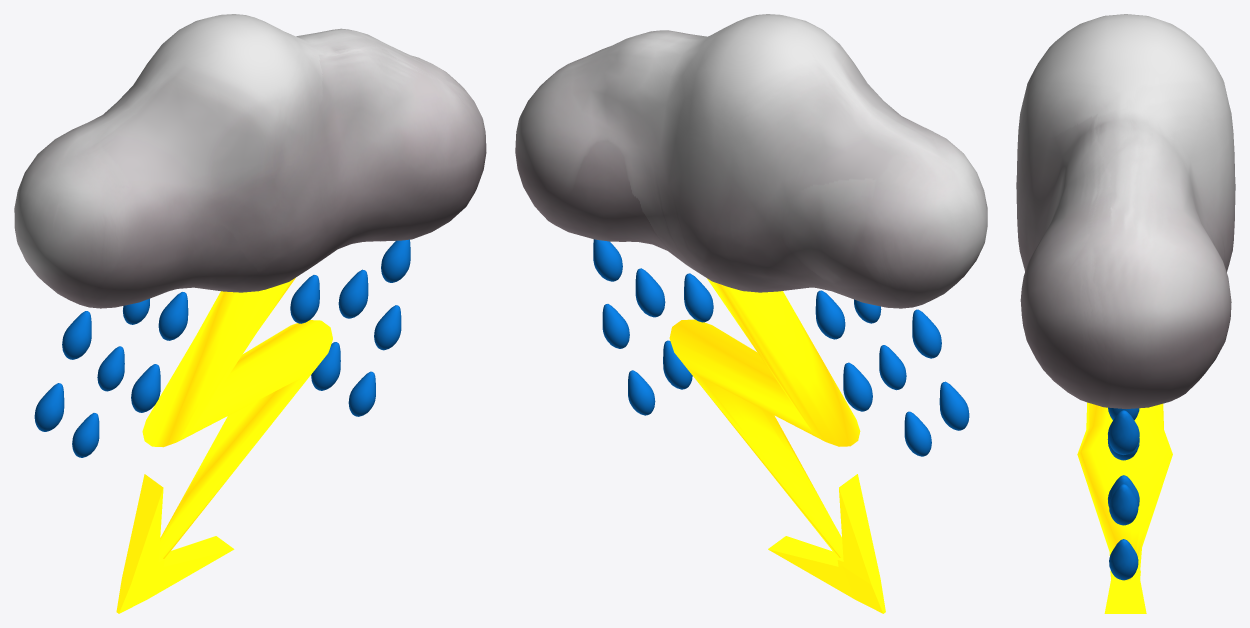
The model's file is hujan.glb.
3 renders of one model, left to right at view 1: azimuth 30°, elevation 25°; view 2: azimuth 150°, elevation 25°; view 3: azimuth 270°, elevation 25°, orthographic. The views are drawn at different scales.
Parts seen in each view (by area): view 1: Wolke 01, NurbsPath, Regen, Plane, Regen.001, Regen.003, Regen.002; view 2: Wolke 01, NurbsPath, Regen, Plane, Regen.001, Regen.003, Regen.002; view 3: Wolke 01, NurbsPath, Regen.001, Plane, Regen.002.
Part boxes in pixels (left/top/right/bottom): Wolke 01: left=14, top=14, right=486, bottom=308; NurbsPath: left=142, top=277, right=332, bottom=558; Regen: left=34, top=292, right=188, bottom=457; Plane: left=116, top=474, right=234, bottom=613; Regen.001: left=311, top=269, right=401, bottom=416; Regen.003: left=290, top=275, right=319, bottom=323; Regen.002: left=381, top=239, right=410, bottom=282; Wolke 01: left=515, top=14, right=987, bottom=308; NurbsPath: left=669, top=278, right=860, bottom=558; Regen: left=815, top=290, right=969, bottom=456; Plane: left=768, top=474, right=885, bottom=613; Regen.001: left=602, top=268, right=692, bottom=415; Regen.003: left=684, top=273, right=713, bottom=322; Regen.002: left=593, top=239, right=622, bottom=281; Wolke 01: left=1016, top=14, right=1235, bottom=408; NurbsPath: left=1077, top=402, right=1172, bottom=580; Regen.001: left=1107, top=438, right=1139, bottom=580; Plane: left=1104, top=548, right=1146, bottom=613; Regen.002: left=1108, top=410, right=1139, bottom=454.
Bounding box in the file's own units: 6.21 × 7.44 × 2.3.
3 materials, 1 textured.
